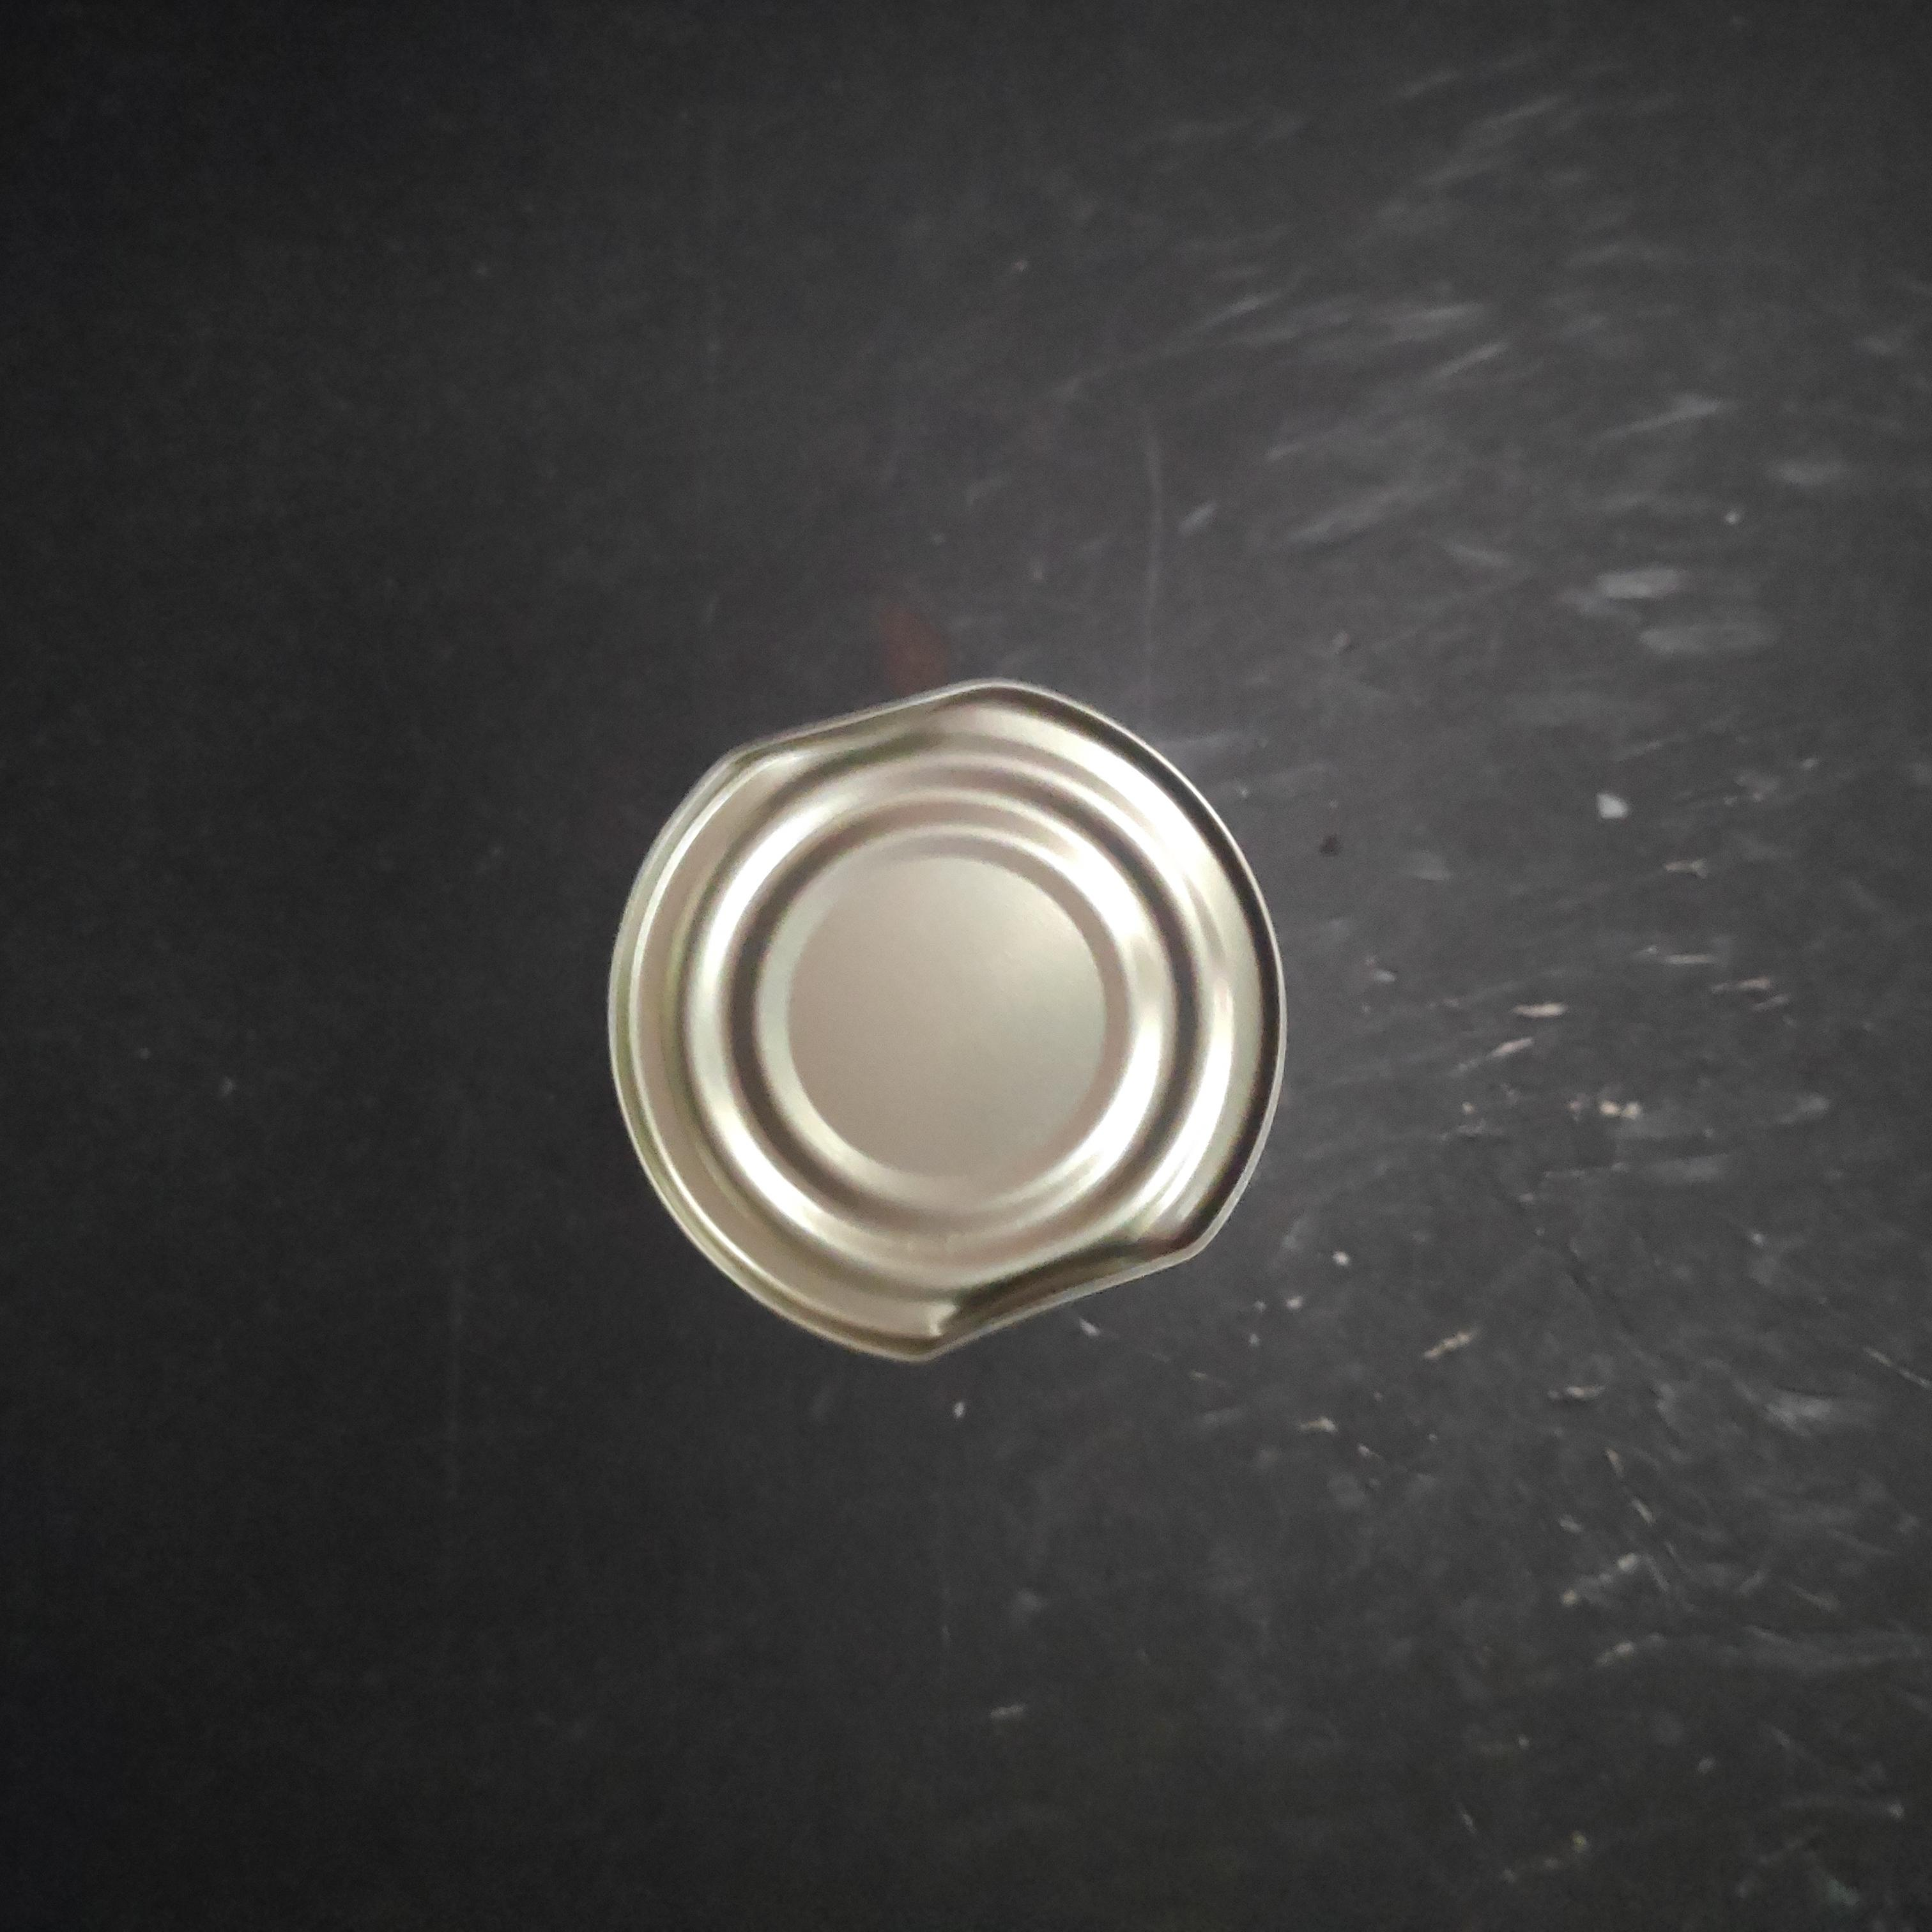Minor Defect: (582, 662, 1309, 1382)
